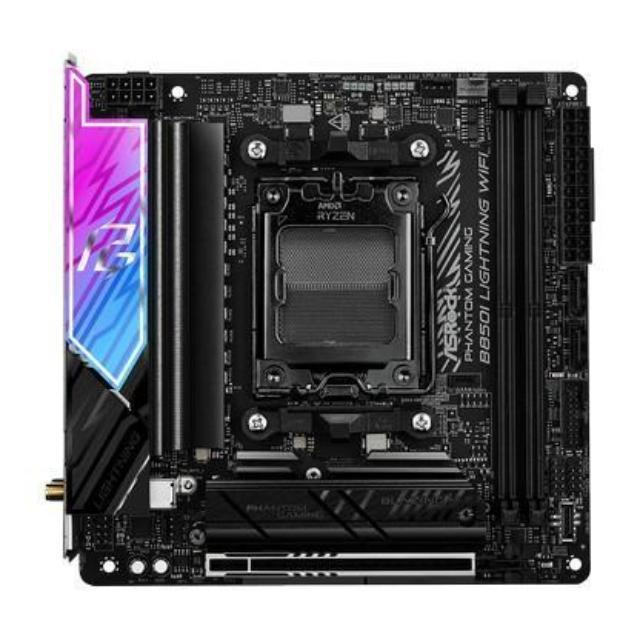Mainboard: (58, 53, 594, 593)
